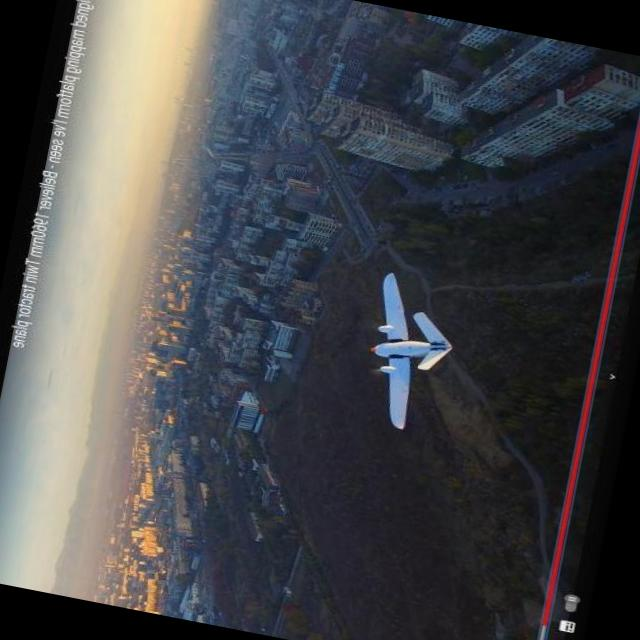UAV: (326, 274, 466, 417)
